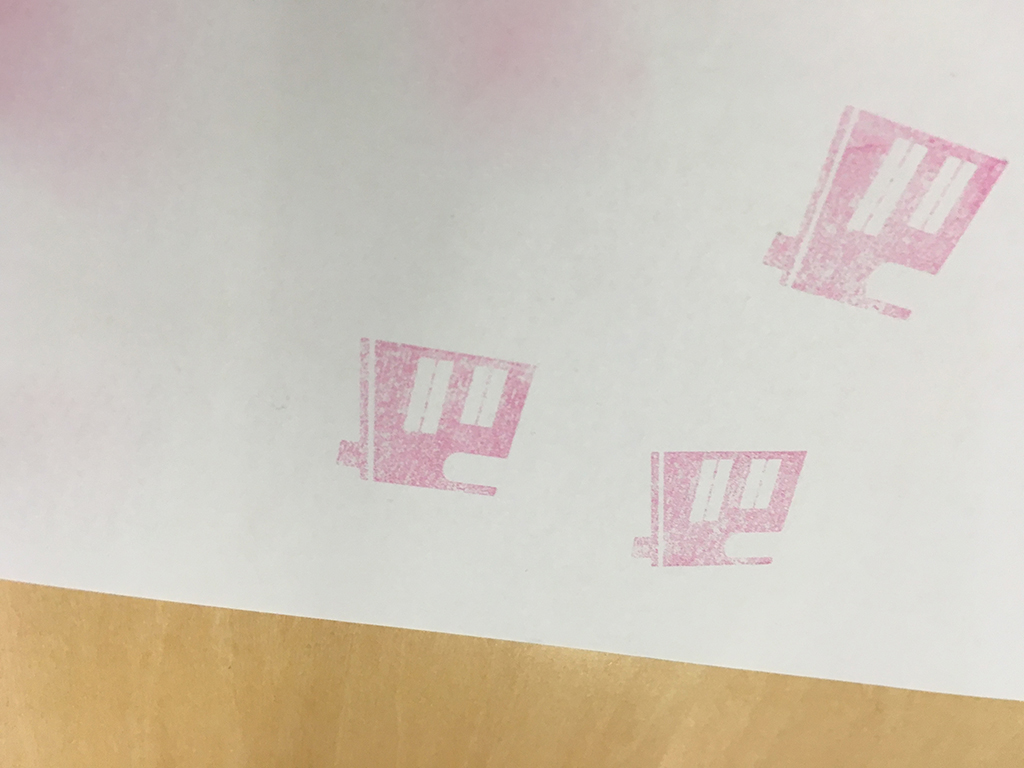house: (750, 85, 1015, 336), (330, 331, 541, 508), (627, 441, 813, 579)
